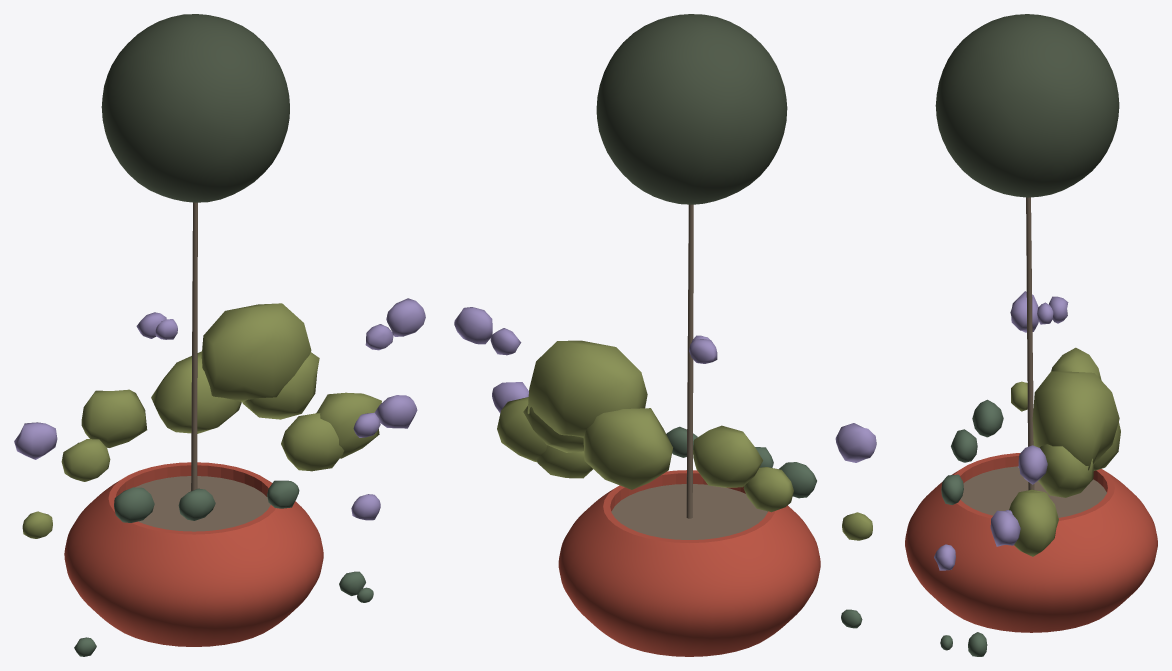
File: NPR_07_2031__MOD__VegetationElements__Topiary__BowlStandard__Var-01__.glb
3 views of the same model, side by side, from view 1: azimuth 30°, elevation 25°; view 2: azimuth 150°, elevation 25°; view 3: azimuth 270°, elevation 25° (orthographic). The views are drawn at different scales.
Visible parts, largest first — view 1: NPR_07_2031__MOD__VegetationElements__Topiary__BowlStandard_; view 2: NPR_07_2031__MOD__VegetationElements__Topiary__BowlStandard_; view 3: NPR_07_2031__MOD__VegetationElements__Topiary__BowlStandard_.
Part boxes in pixels (left/top/right/bottom): NPR_07_2031__MOD__VegetationElements__Topiary__BowlStandard_: left=14, top=14, right=425, bottom=656; NPR_07_2031__MOD__VegetationElements__Topiary__BowlStandard_: left=454, top=14, right=876, bottom=656; NPR_07_2031__MOD__VegetationElements__Topiary__BowlStandard_: left=905, top=14, right=1157, bottom=656.
Size of the model in its own units: 1.21 by 1.65 by 0.66.
